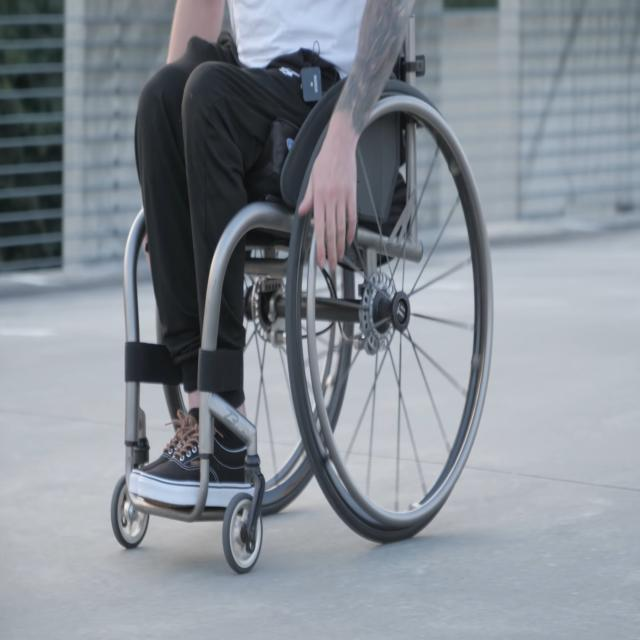wheelchairs: (109, 0, 495, 574)
